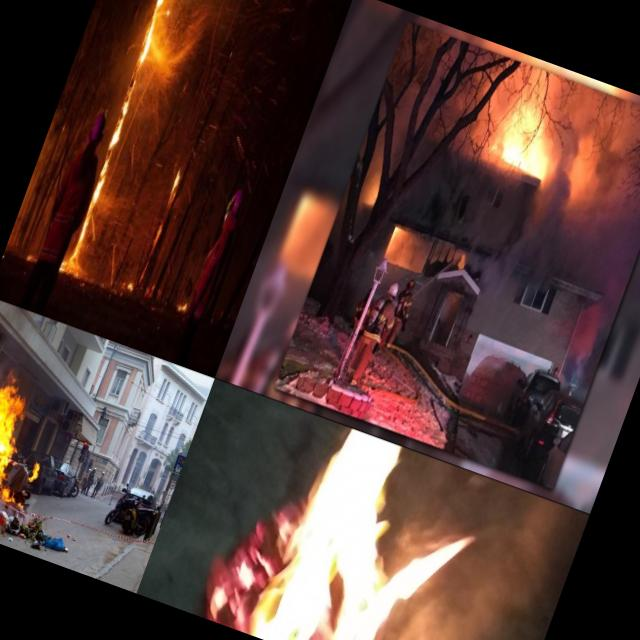fire: (201, 402, 492, 640), (53, 0, 194, 274), (483, 116, 560, 189), (0, 380, 35, 499), (0, 364, 20, 444), (382, 216, 408, 256), (364, 167, 388, 210), (0, 481, 19, 506), (26, 460, 42, 486), (12, 498, 30, 514)
smoke: (510, 163, 640, 312), (0, 302, 35, 360)
